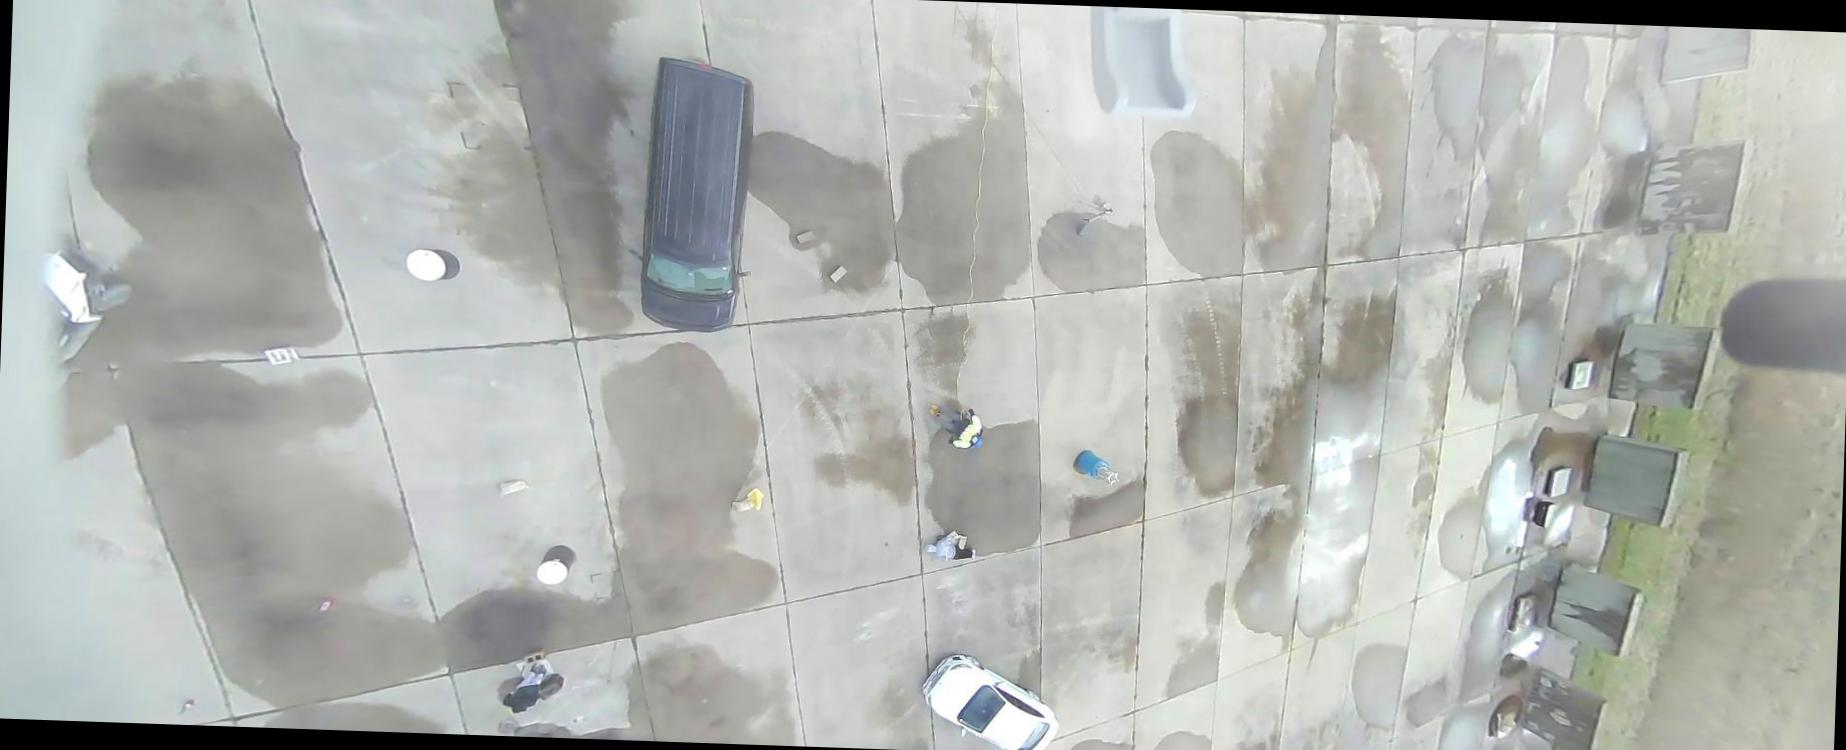vehicle: (625, 54, 759, 336), (36, 246, 135, 392), (919, 652, 1062, 749)
